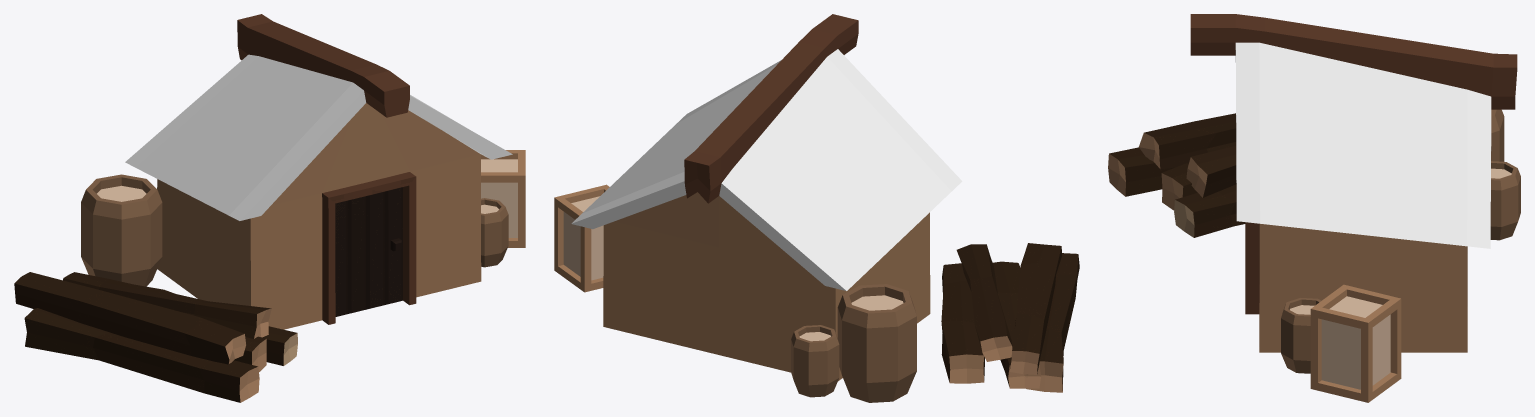
File: woodcutter_hut.gltf
The picture shows the model from 3 angles, left to right: view 1: azimuth 30°, elevation 25°; view 2: azimuth 150°, elevation 25°; view 3: azimuth 270°, elevation 25°; orthographic projection. The views are drawn at different scales.
Parts seen in each view (by area): view 1: WoodcutterHut; view 2: WoodcutterHut; view 3: WoodcutterHut.
Boxes of the visible parts, box(x1,y1,x2,y2) form: WoodcutterHut: box(14, 14, 525, 402); WoodcutterHut: box(554, 14, 1079, 402); WoodcutterHut: box(1108, 14, 1520, 402).
Bounding box in the file's own units: 6.17 × 2.87 × 3.96.
2 materials, 1 textured.
